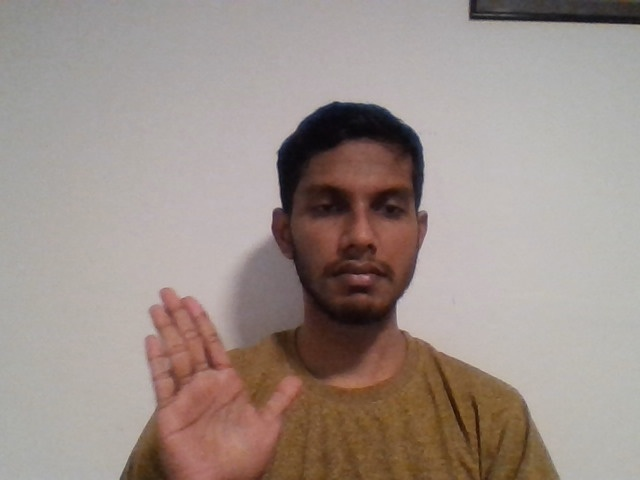hello: (124, 270, 319, 474)
